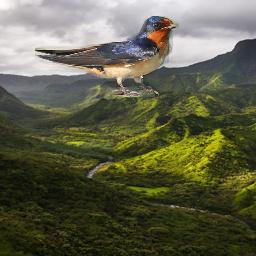Swallow: (35, 16, 179, 97)
